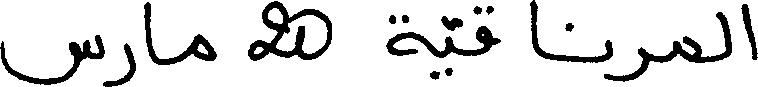X: (0, 30, 104, 86), (249, 0, 287, 65), (297, 4, 330, 64), (388, 10, 423, 60), (614, 42, 649, 86), (106, 38, 135, 86), (673, 31, 700, 67), (742, 0, 757, 64), (477, 1, 491, 59), (193, 29, 214, 65), (718, 7, 731, 65), (532, 0, 540, 60), (447, 13, 453, 80), (146, 0, 151, 63), (606, 35, 612, 84)
